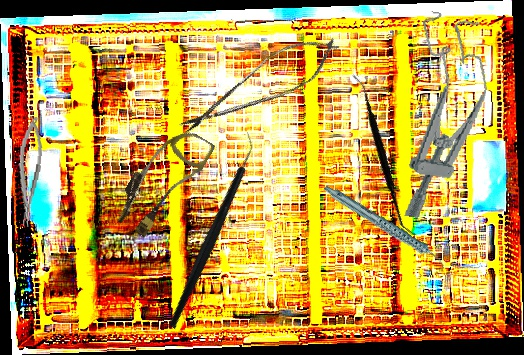Cannula: (108, 117, 217, 245)
Chopper: (111, 130, 310, 330)
Handpiece: (322, 163, 448, 291)
Micro Scissor: (170, 22, 350, 150)
Needle Holder: (10, 115, 48, 228)
Spatula Surgical: (299, 73, 469, 237)
Speculum: (389, 10, 499, 226)
